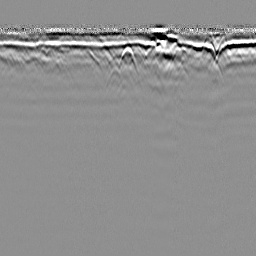cavity: (119, 43, 137, 73)
